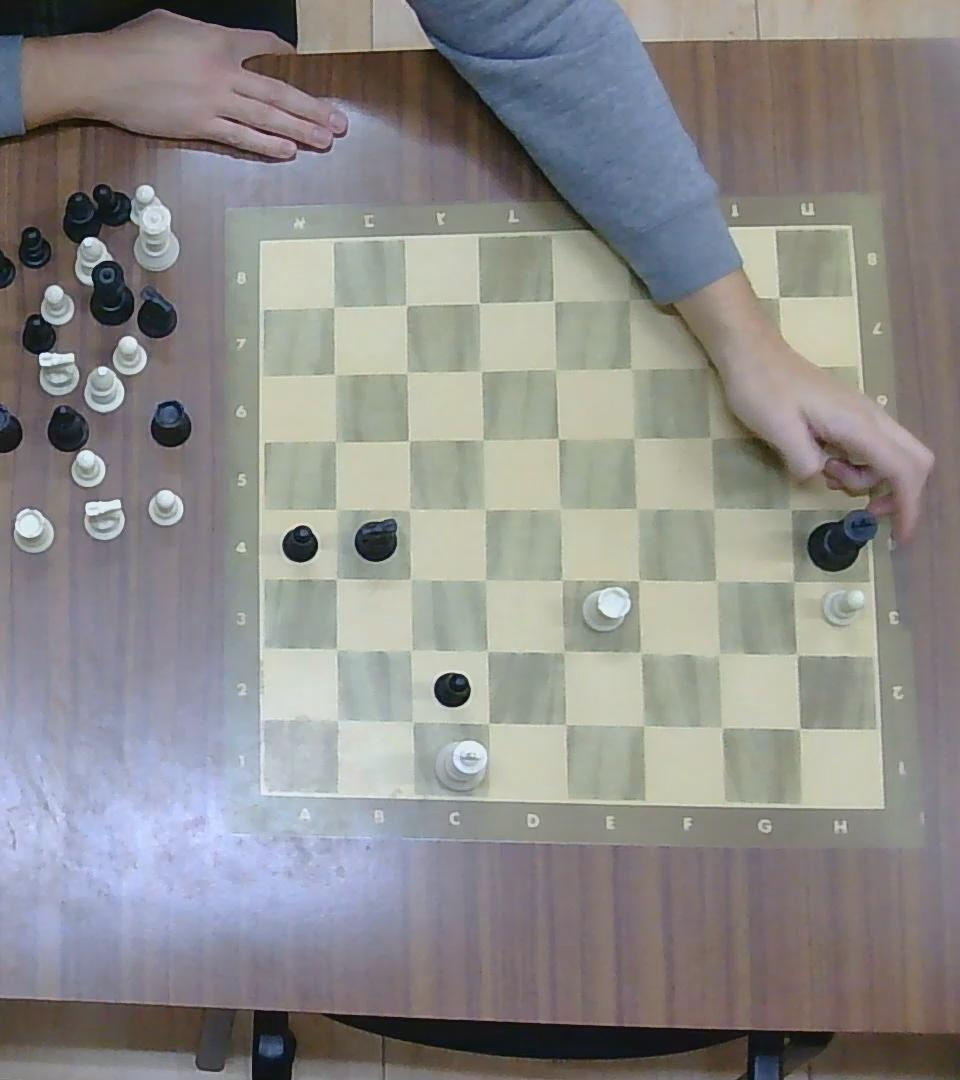xcorner: (781, 710, 815, 744), (701, 636, 735, 669), (548, 706, 580, 738), (471, 706, 503, 738), (626, 709, 658, 741), (705, 710, 736, 743), (625, 635, 656, 667), (781, 637, 812, 668), (471, 636, 502, 666), (396, 705, 427, 735), (321, 703, 351, 734), (777, 565, 808, 595), (548, 636, 578, 666), (615, 283, 645, 313), (700, 565, 730, 595), (776, 491, 806, 521), (320, 563, 350, 593), (623, 563, 652, 594), (699, 492, 728, 523), (548, 563, 577, 594), (465, 286, 494, 317), (545, 494, 574, 524), (622, 493, 652, 522), (470, 564, 500, 593), (541, 285, 570, 315), (470, 493, 499, 522), (395, 635, 424, 664), (392, 289, 421, 318), (619, 353, 648, 382), (320, 292, 349, 321), (765, 282, 794, 311), (469, 424, 497, 453), (543, 353, 571, 382), (771, 421, 800, 449), (769, 351, 797, 380), (686, 280, 713, 310), (467, 355, 495, 383), (322, 635, 350, 663), (393, 357, 421, 385), (693, 352, 721, 379), (321, 359, 349, 386), (622, 422, 648, 451), (546, 423, 573, 450), (396, 426, 423, 453), (699, 423, 726, 450), (396, 494, 423, 521), (396, 565, 423, 592), (323, 427, 349, 453), (324, 496, 350, 522)
